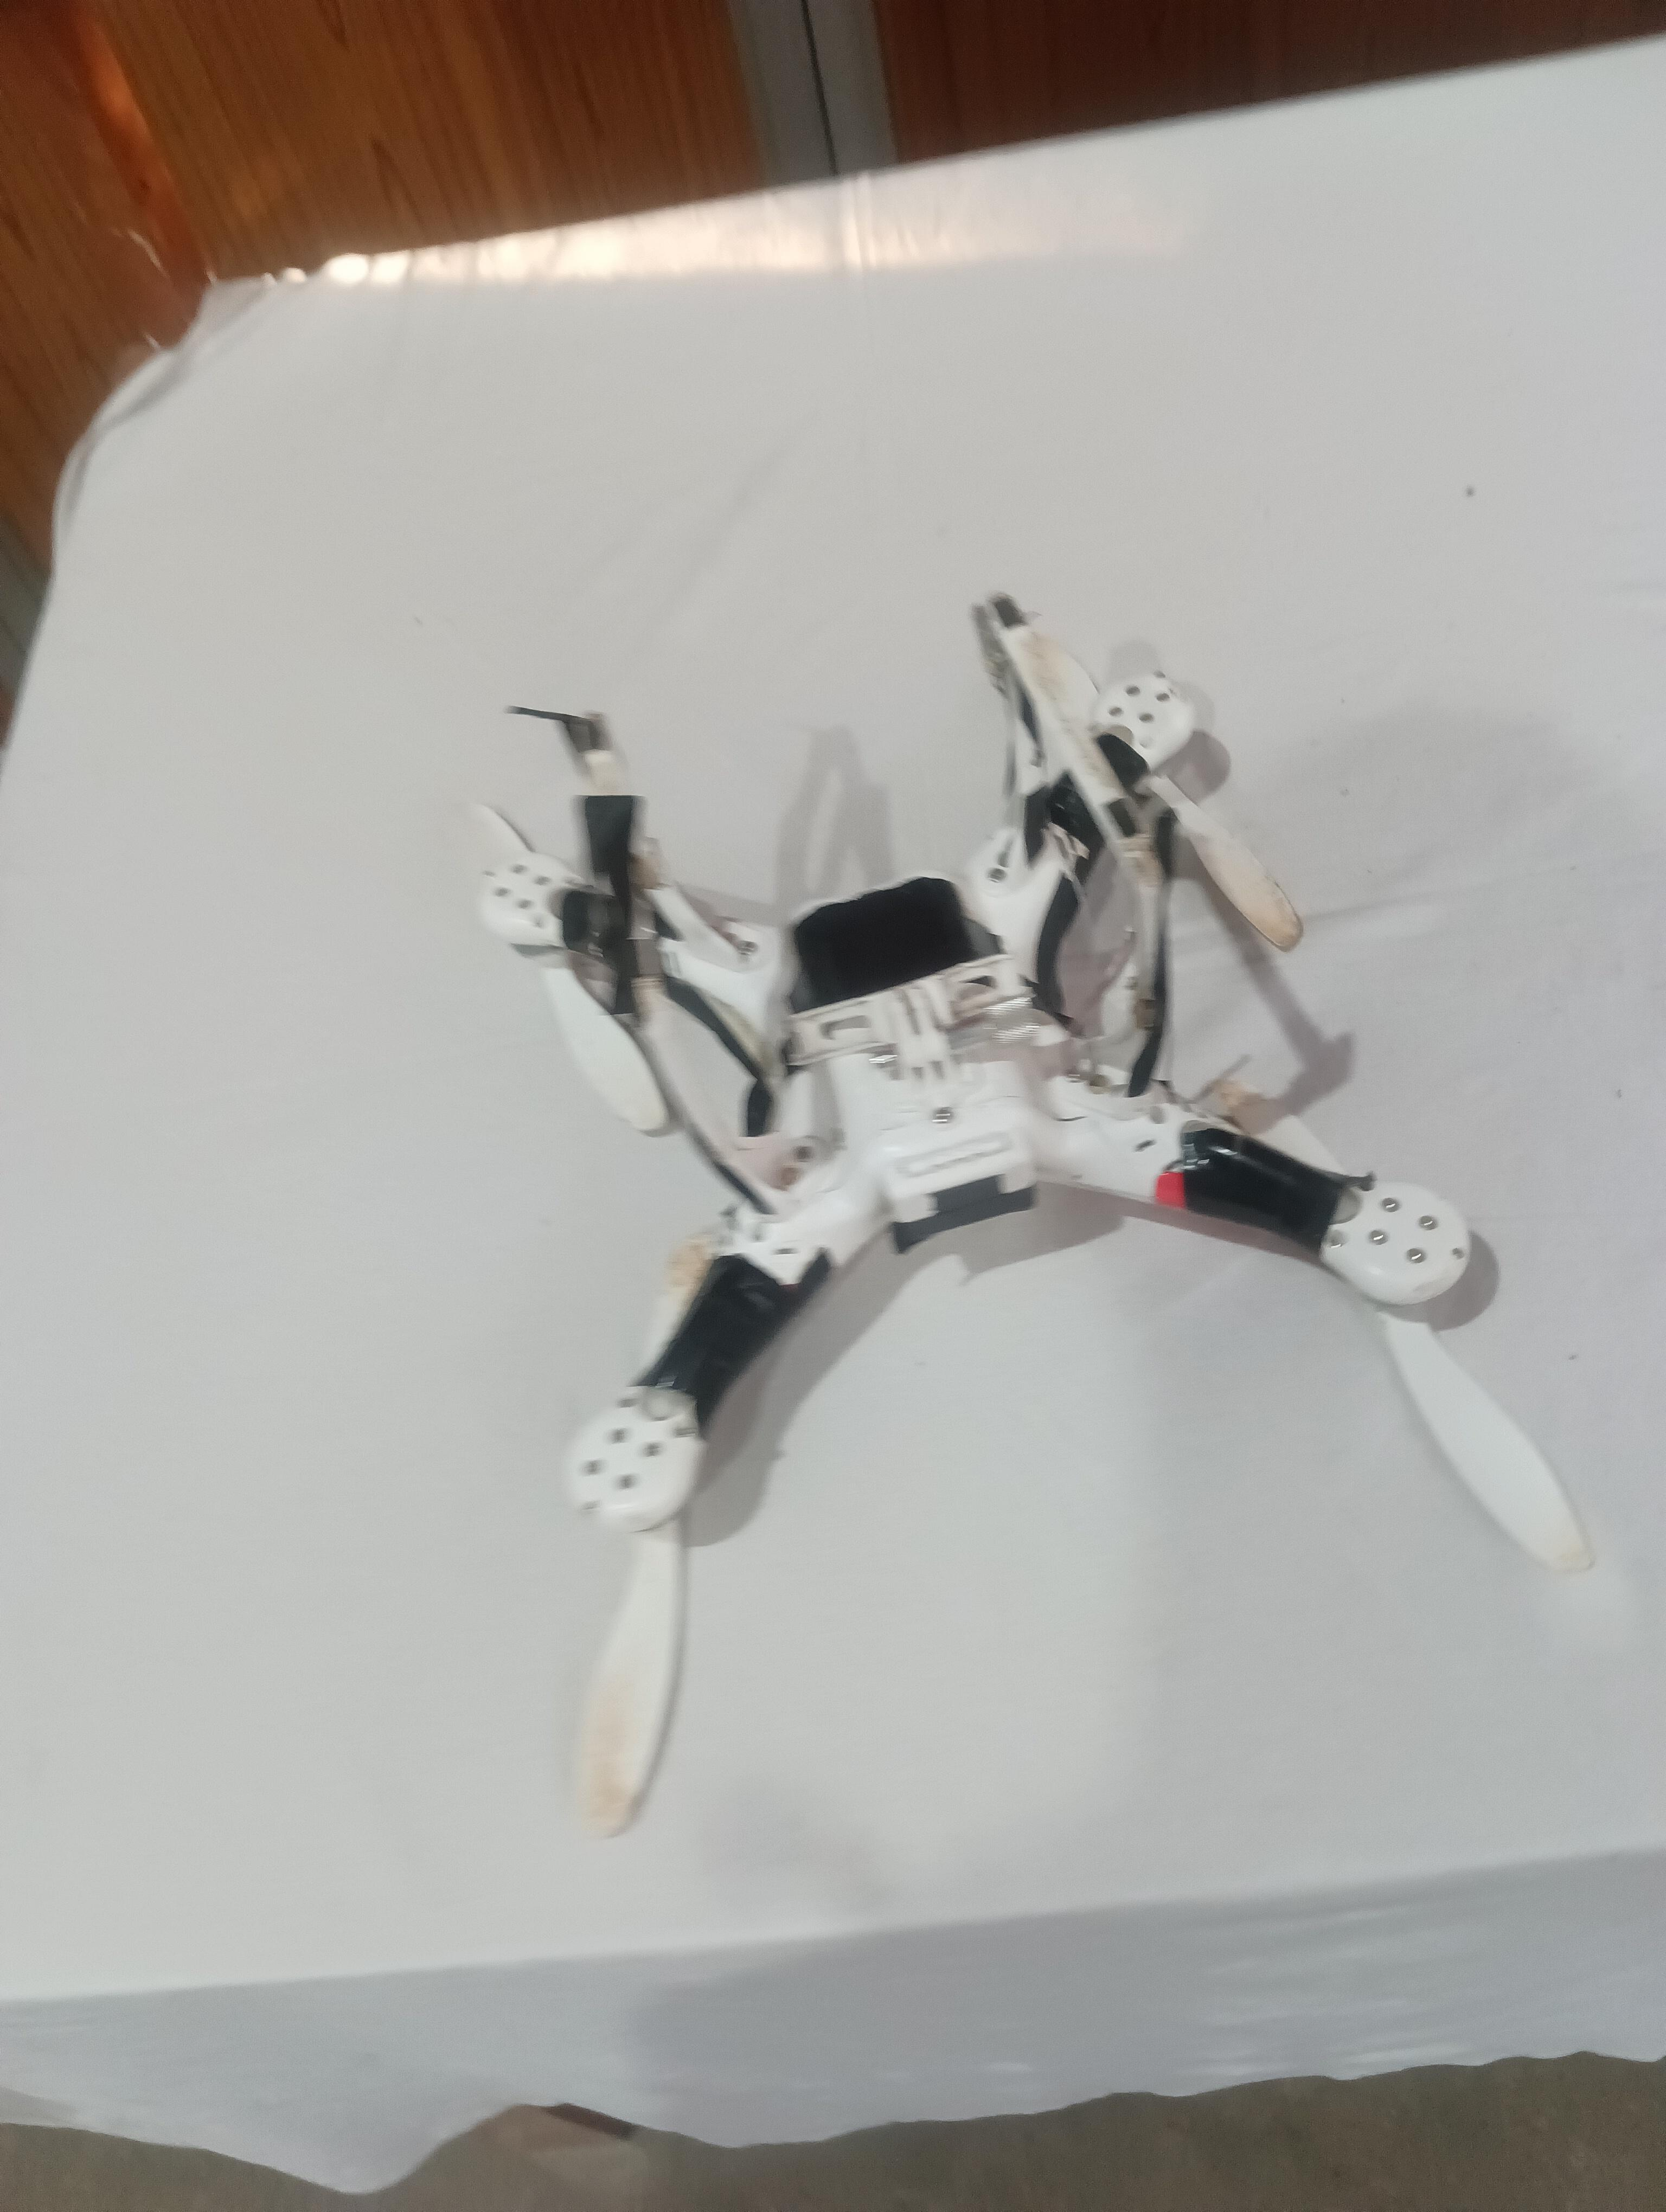drone: (313, 584, 1603, 1638)
